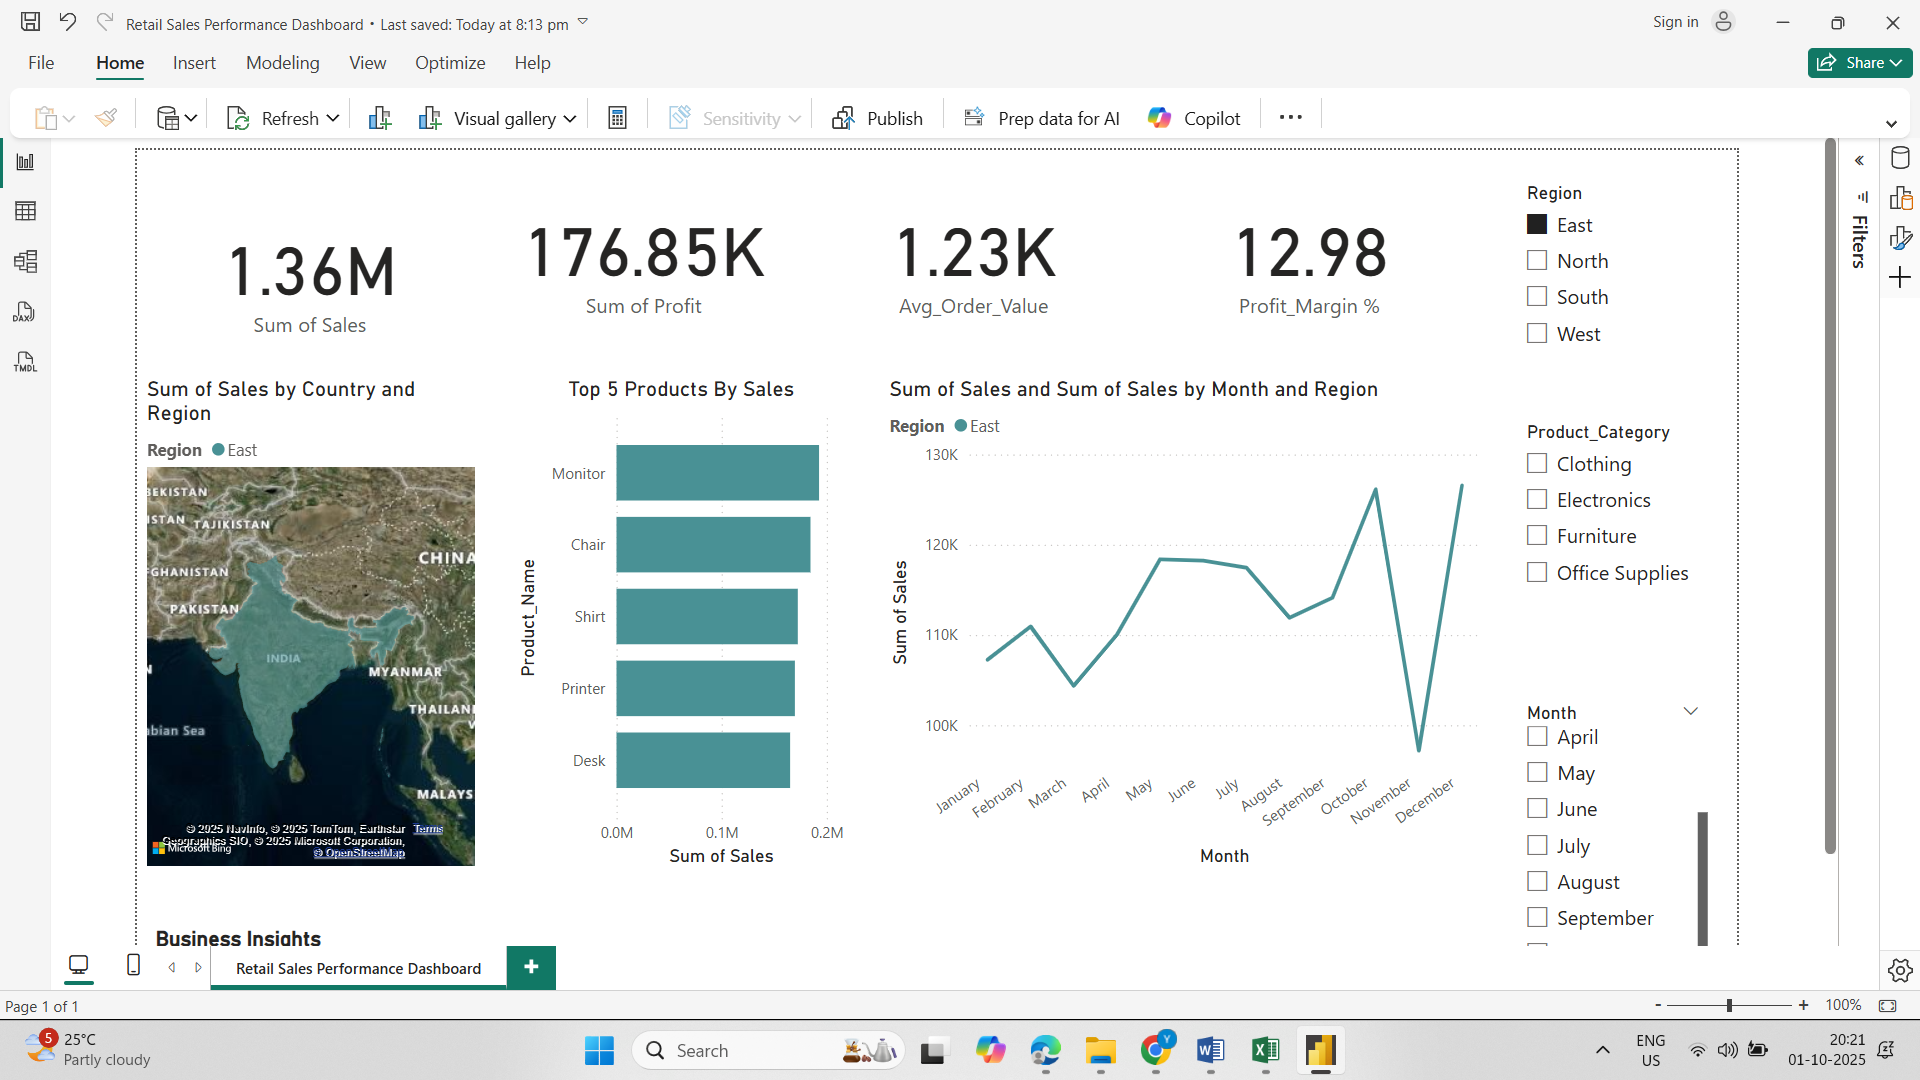

Layout of this report page (visuals, bound fields, positions):
{"tool":"powerbi","page":{"name":"Retail Sales Performance Dashboard","canvas":[1280,720],"ordinal":0},"visuals":[{"type":"card","fields":{"Values":["Sum(Retail_Sales_Dashboard_Dataset_.Sales)"]},"box":[10.1,21.4,257,160.1],"z":0},{"type":"card","fields":{"Values":["Sum(Retail_Sales_Dashboard_Dataset_.Profit)"]},"box":[281.8,21.4,246.8,129.6],"z":1},{"type":"card","fields":{"Values":["Retail_Sales_Dashboard_Dataset_.Avg_Order_Value"]},"box":[551.2,21.4,236.7,129.6],"z":2},{"type":"card","fields":{"Values":["Retail_Sales_Dashboard_Dataset_.Profit_Margin %"]},"box":[818.3,21.4,240.1,129.6],"z":3},{"type":"filledMap","fields":{"Category":["Retail_Sales_Dashboard_Dataset_.Country"],"Series":["Retail_Sales_Dashboard_Dataset_.Region"]},"box":[3.4,181.5,271.6,396.7],"z":4},{"type":"clusteredBarChart","title":"Top 5 Products By Sales","fields":{"Category":["Retail_Sales_Dashboard_Dataset_.Product_Name"],"Y":["Sum(Retail_Sales_Dashboard_Dataset_.Sales)"]},"box":[299.8,181.5,271.6,396.7],"z":5},{"type":"lineChart","fields":{"Category":["Retail_Sales_Dashboard_Dataset_.Order_Date.Variation.Date Hierarchy.Month"],"Y":["Sum(Retail_Sales_Dashboard_Dataset_.Sales)"],"Series":["Retail_Sales_Dashboard_Dataset_.Region"]},"box":[597.4,181.5,481.3,396.7],"z":6},{"type":"slicer","fields":{"Values":["Retail_Sales_Dashboard_Dataset_.Region"]},"box":[1098.9,21.4,163.4,160.1],"z":8},{"type":"slicer","fields":{"Values":["Retail_Sales_Dashboard_Dataset_.Product_Category"]},"box":[1098.9,211.9,163.4,172.4],"z":9},{"type":"slicer","fields":{"Values":["Retail_Sales_Dashboard_Dataset_.Order_Date.Variation.Date Hierarchy.Month"]},"box":[1098.9,437.3,163.4,282.9],"z":10},{"type":"textbox","title":"Business Insights","box":[10.1,621,1068.5,99.2],"z":11}]}

Visuals, with their boxes on the page's 1280x720 design canvas (x1, y1, x2, y2). These are canvas units, not pixel positions in the 1920x1080 screenshot, which may show the page scaled, cropped or inside an application window:
card - Sum(Retail_Sales_Dashboard_Dataset_.Sales): pyautogui.locateOnScreen(10, 21, 267, 182)
card - Sum(Retail_Sales_Dashboard_Dataset_.Profit): pyautogui.locateOnScreen(282, 21, 529, 151)
card - Retail_Sales_Dashboard_Dataset_.Avg_Order_Value: pyautogui.locateOnScreen(551, 21, 788, 151)
card - Retail_Sales_Dashboard_Dataset_.Profit_Margin %: pyautogui.locateOnScreen(818, 21, 1058, 151)
filledMap - Retail_Sales_Dashboard_Dataset_.Country x Retail_Sales_Dashboard_Dataset_.Region: pyautogui.locateOnScreen(3, 182, 275, 578)
"Top 5 Products By Sales" clusteredBarChart: pyautogui.locateOnScreen(300, 182, 571, 578)
lineChart - Retail_Sales_Dashboard_Dataset_.Order_Date.Variation.Date Hierarchy.Month x Sum(Retail_Sales_Dashboard_Dataset_.Sales): pyautogui.locateOnScreen(597, 182, 1079, 578)
slicer - Retail_Sales_Dashboard_Dataset_.Region: pyautogui.locateOnScreen(1099, 21, 1262, 182)
slicer - Retail_Sales_Dashboard_Dataset_.Product_Category: pyautogui.locateOnScreen(1099, 212, 1262, 384)
slicer - Retail_Sales_Dashboard_Dataset_.Order_Date.Variation.Date Hierarchy.Month: pyautogui.locateOnScreen(1099, 437, 1262, 720)
"Business Insights" textbox: pyautogui.locateOnScreen(10, 621, 1079, 720)
